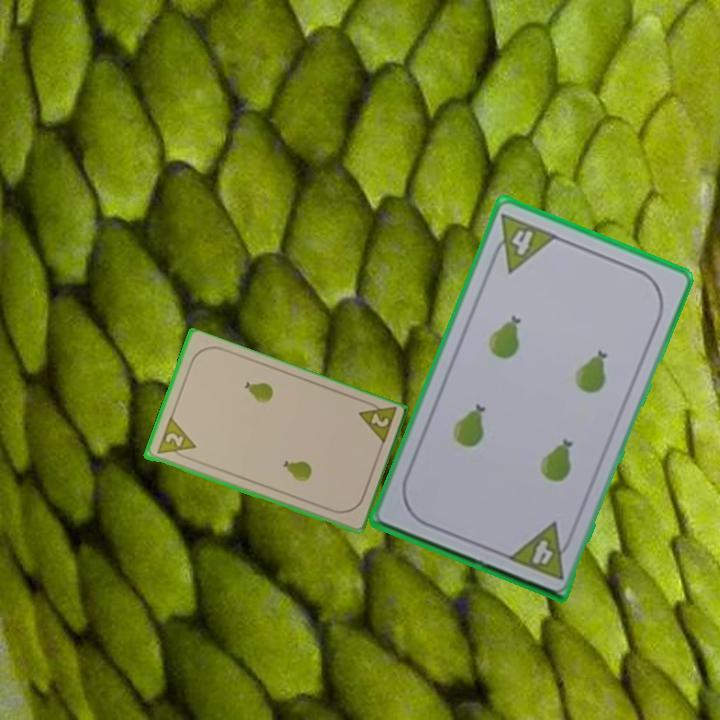2p: (354, 397, 399, 449), (153, 415, 198, 464)
4p: (485, 210, 560, 276), (503, 519, 577, 582)
